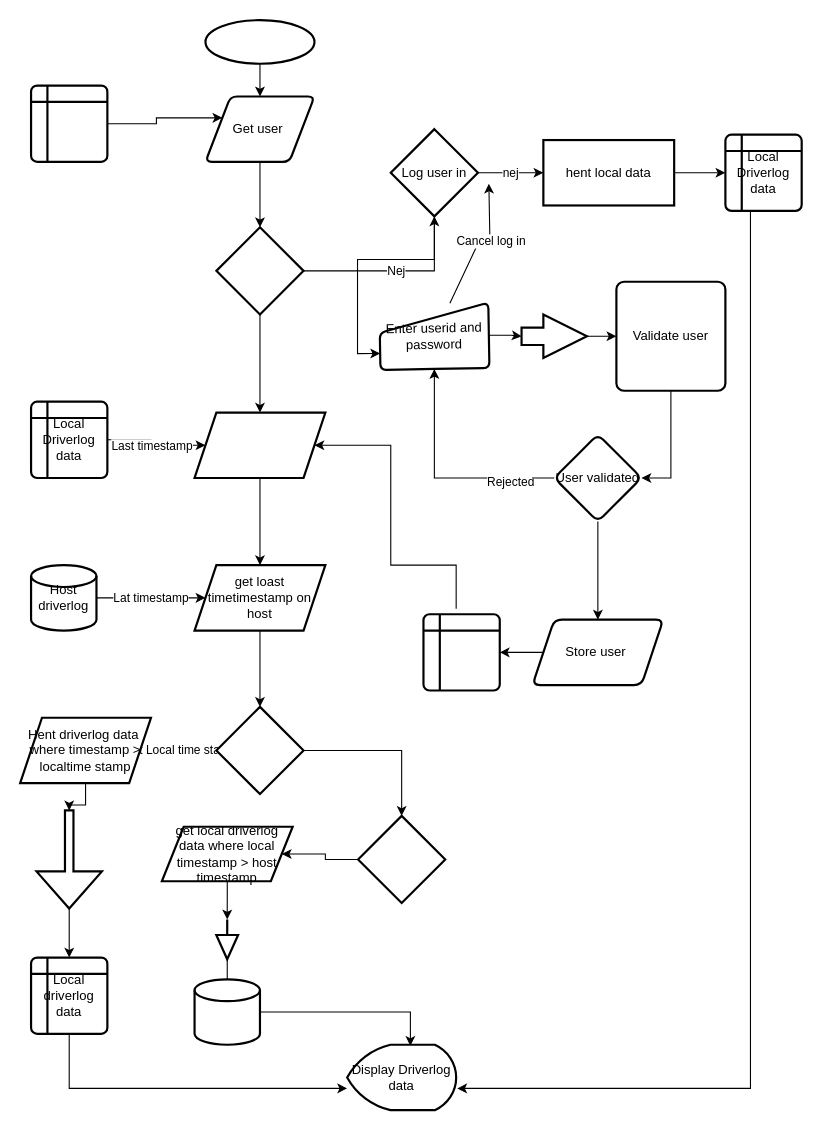
Some shapes in this 821 by 1129 pixel diagram are drawn without their labels. The centre of each missing label's shape, as x and y in pixels:
get last timestamp: pixel 259 445
Host driverlog data: pixel 227 1011
is host timestamp < local tiestamp: pixel 401 859
is local timestamp >= host timestamp: pixel 259 750
is user logged in: pixel 259 270
local user data: pixel 461 652
Local Userdata: pixel 68 123
Validate on host: pixel 554 336
